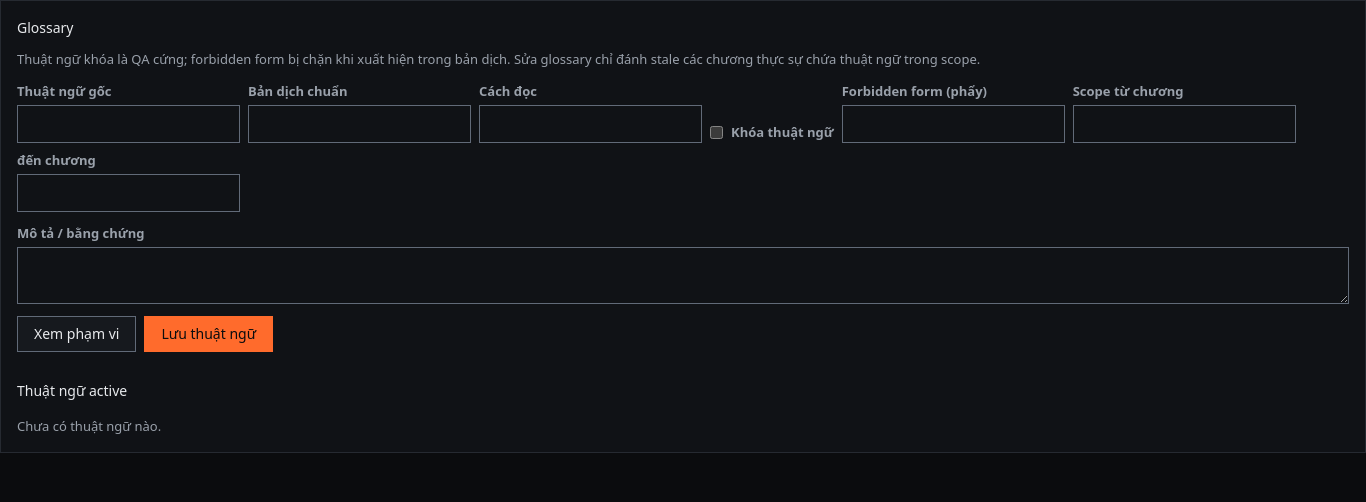
Test: GlossaryManager (U09 part 2) › posts the entry and reports affected/stale scope after save
This screenshot has width=1366, height=502.
Expected: the text "Chưa có thuật ngữ nào." is shown, top-left (17, 416), bottom-right (161, 434)
Type "林动" into the field labelled "Thuật ngữ gốc" at (128, 124), box top-left (17, 105), bottom-right (240, 142)
Type "Lâm Động" into the field labelled "Bản dịch chuẩn" at (360, 124), box top-left (248, 105), bottom-right (471, 142)
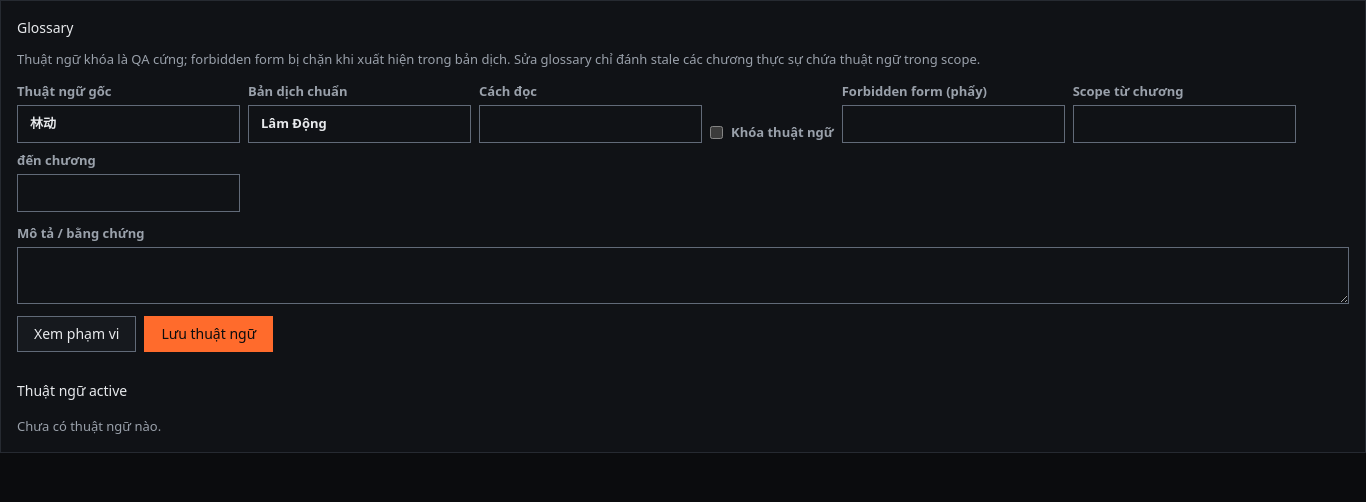
Click the checkbox labelled "Khóa thuật ngữ" at (716, 133), box top-left (710, 126), bottom-right (723, 139)
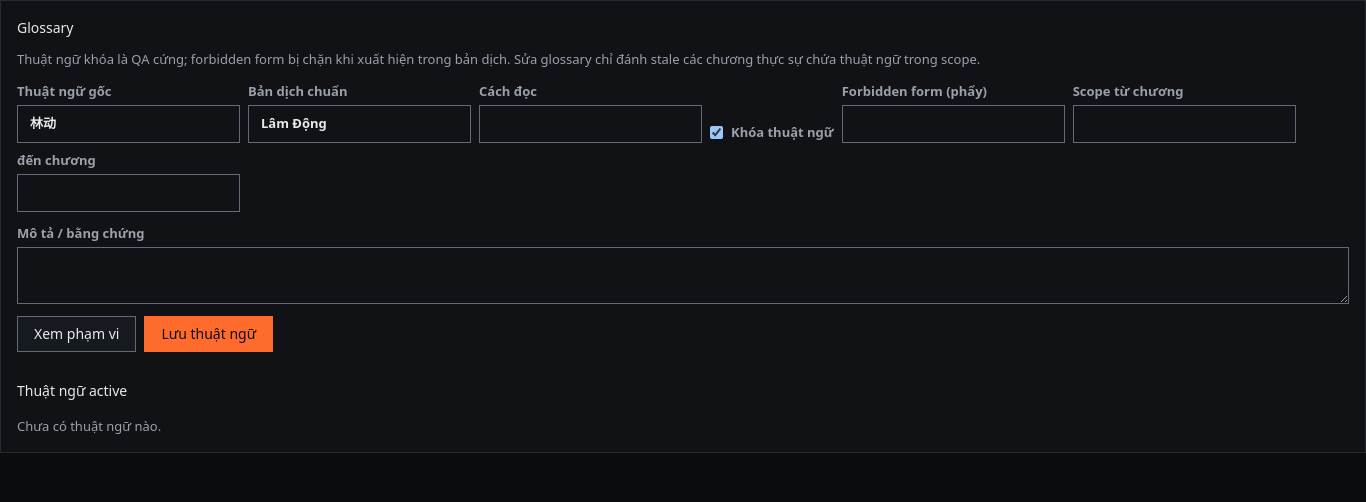
Type "Lam Dong" into the field labelled "Forbidden form (phẩy)" at (953, 124), box top-left (842, 105), bottom-right (1065, 142)
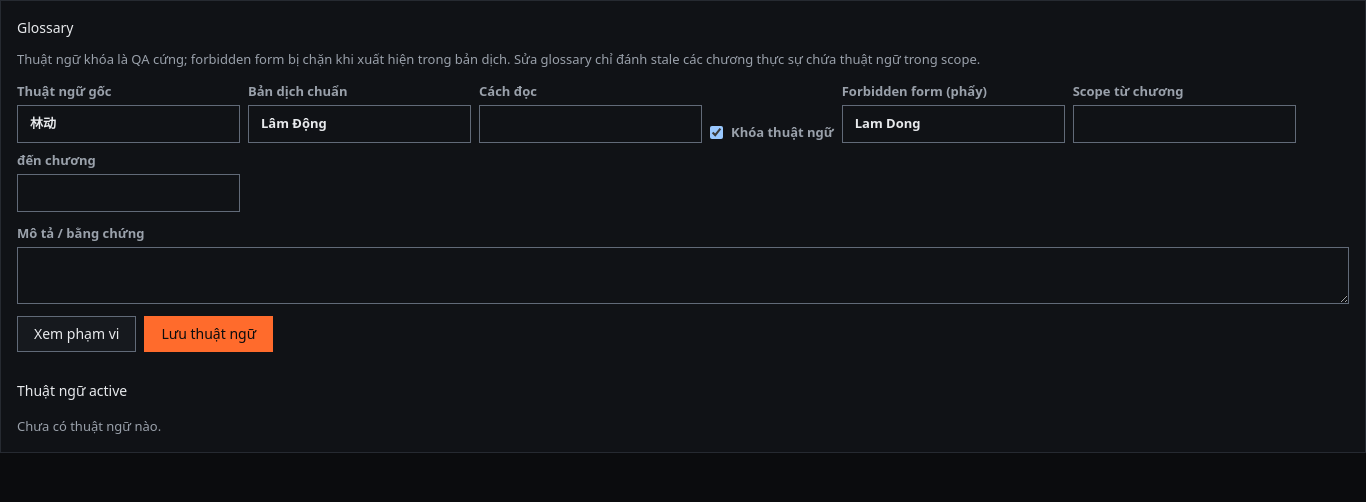
Type "1" into the field labelled "Scope từ chương" at (1184, 124), box top-left (1073, 105), bottom-right (1296, 142)
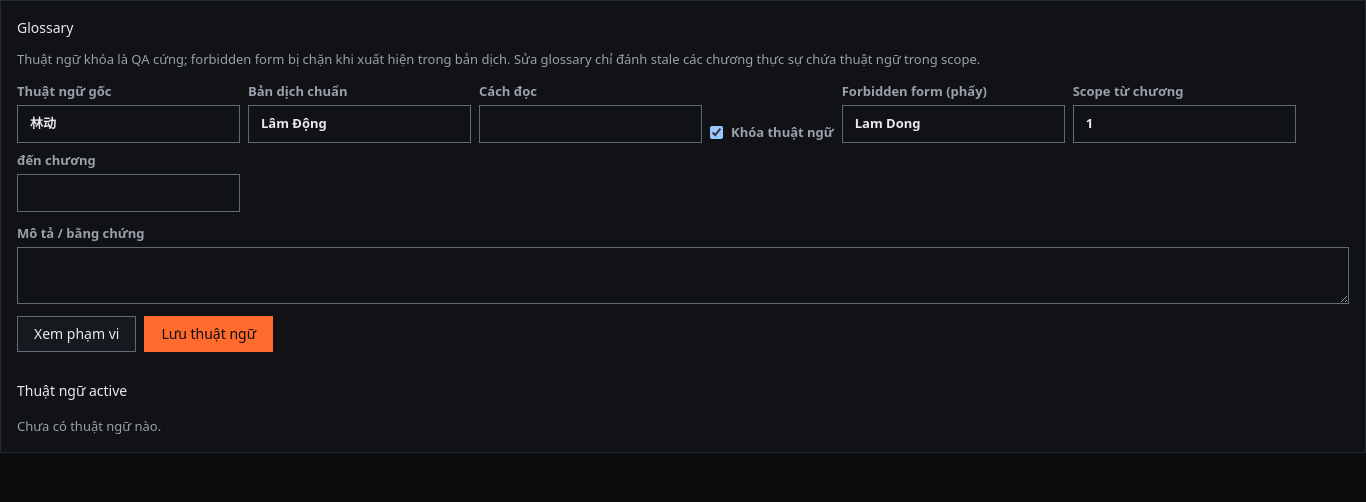
Type "3" into the field labelled "đến chương" at (128, 193), box top-left (17, 174), bottom-right (240, 212)
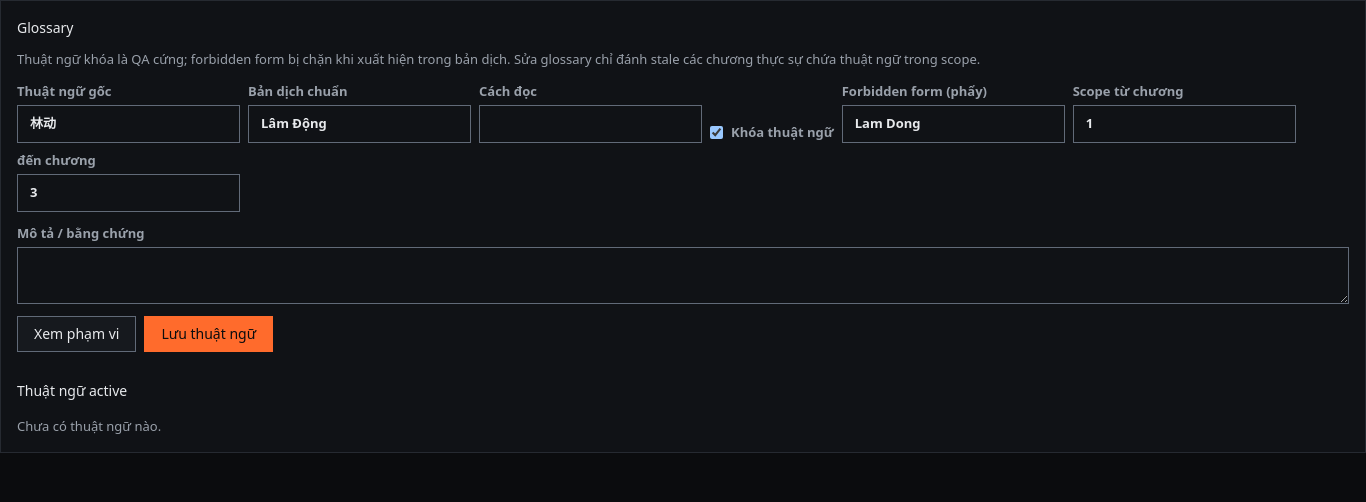
Click the button "Lưu thuật ngữ" at (209, 334), box top-left (144, 316), bottom-right (273, 352)
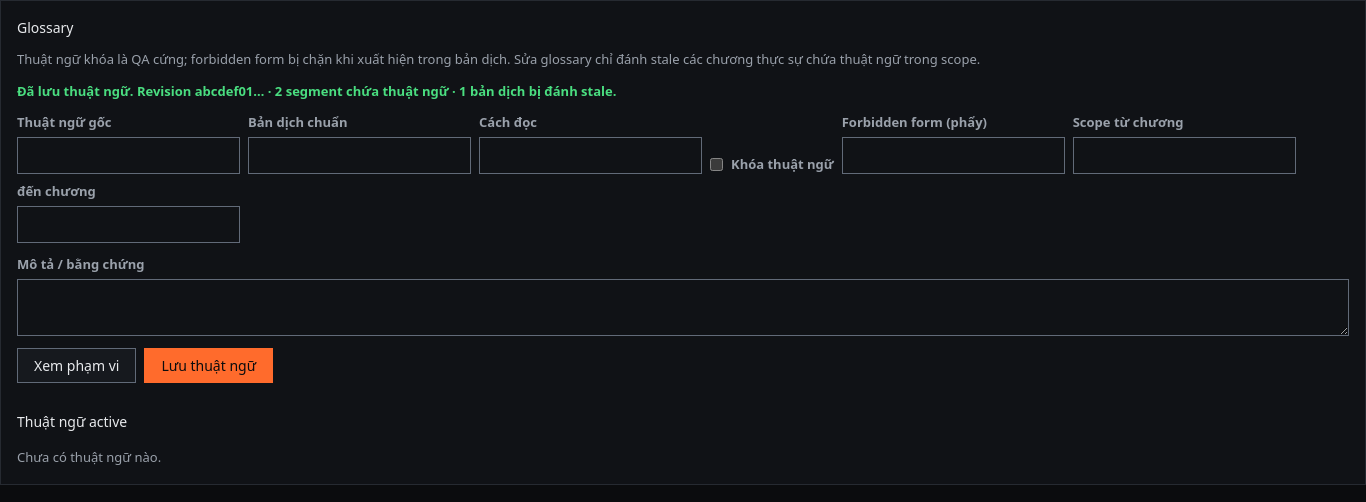
Expected: the message shows "2 segment", top-left (17, 82), bottom-right (616, 100)
Expected: the message shows "1 bản dịch bị đánh stale", top-left (17, 82), bottom-right (616, 100)
